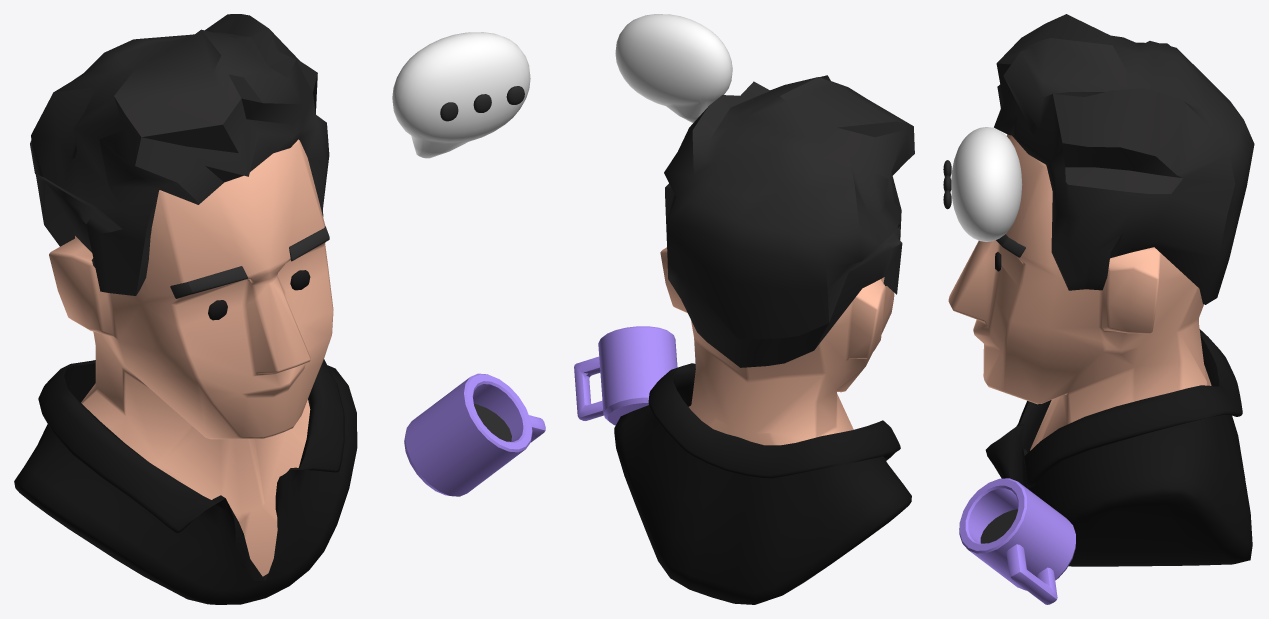
Rendered from avatar.glb.
3 renders of one model, left to right at view 1: azimuth 30°, elevation 25°; view 2: azimuth 150°, elevation 25°; view 3: azimuth 270°, elevation 25°, orthographic. The views are drawn at different scales.
Parts seen in each view (by area): view 1: Face, Hair, Camisa, Chat, Coffee, Brows, Points; view 2: Hair, Camisa, Face, Chat, Coffee; view 3: Hair, Face, Camisa, Coffee, Chat, Coffee2.
Boxes of the visible parts, left/top/right/bottom form: Face: left=49, top=139, right=333, bottom=576; Hair: left=30, top=14, right=329, bottom=295; Camisa: left=14, top=359, right=357, bottom=604; Chat: left=392, top=32, right=530, bottom=158; Coffee: left=404, top=373, right=545, bottom=496; Brows: left=170, top=226, right=329, bottom=298; Points: left=440, top=86, right=524, bottom=121; Hair: left=664, top=75, right=914, bottom=367; Camisa: left=614, top=363, right=911, bottom=604; Face: left=660, top=247, right=894, bottom=445; Chat: left=615, top=14, right=732, bottom=122; Coffee: left=574, top=326, right=677, bottom=425; Hair: left=994, top=14, right=1254, bottom=304; Face: left=948, top=134, right=1211, bottom=450; Camisa: left=985, top=329, right=1252, bottom=566; Coffee: left=959, top=478, right=1075, bottom=604; Chat: left=951, top=127, right=1022, bottom=241; Coffee2: left=980, top=509, right=1017, bottom=543.
Bounding box in the file's own units: 3.11 × 3.58 × 1.99.
